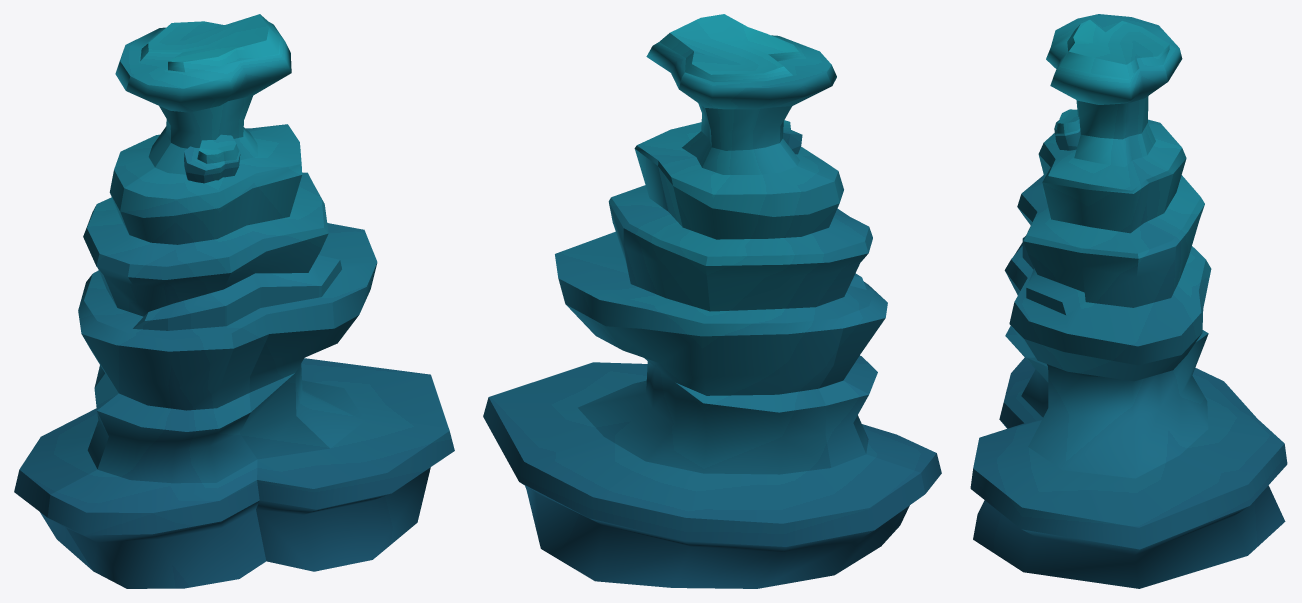
File: RockK.fbx
The picture shows the model from 3 angles, left to right: view 1: azimuth 30°, elevation 25°; view 2: azimuth 150°, elevation 25°; view 3: azimuth 270°, elevation 25°; orthographic projection. The views are drawn at different scales.
Visible parts, largest first — view 1: RockK; view 2: RockK; view 3: RockK.
Boxes of the visible parts, left/top/right/bottom form: RockK: left=14, top=14, right=454, bottom=588; RockK: left=483, top=14, right=941, bottom=588; RockK: left=970, top=14, right=1287, bottom=588.
Bounding box in the file's own units: 558 × 632 × 391.
Materials: 1 (1 with a texture image).
